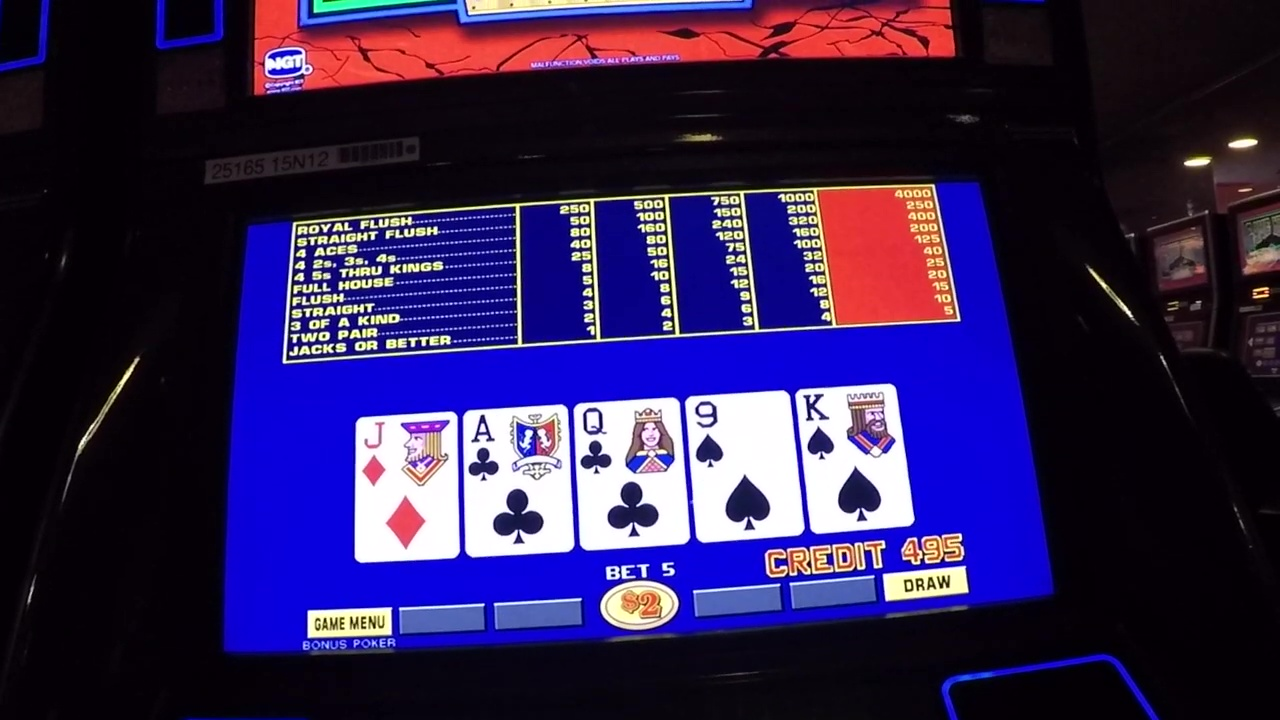CA: (468, 414, 567, 485)
CQ: (577, 404, 678, 476)
DJ: (359, 419, 454, 485)
S9: (694, 398, 792, 471)
SK: (804, 390, 896, 471)
